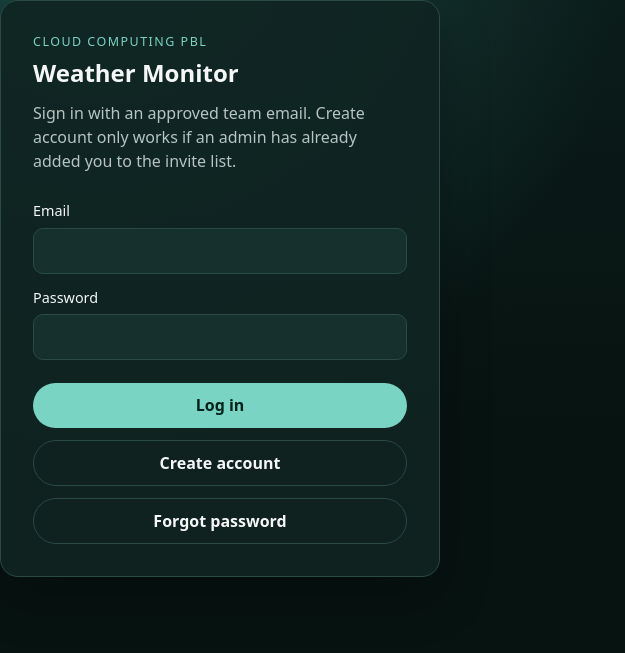
it: Login › sends a password reset for the typed email
Type "demo@college.edu" into the field labelled "Email" at (220, 251), box [33,228,407,274]
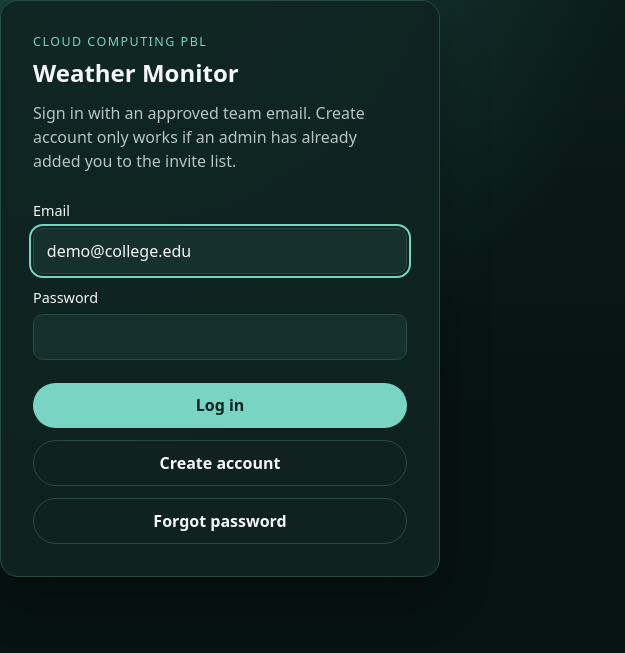
Click the button "Forgot password" at (220, 521), box [33,498,407,544]
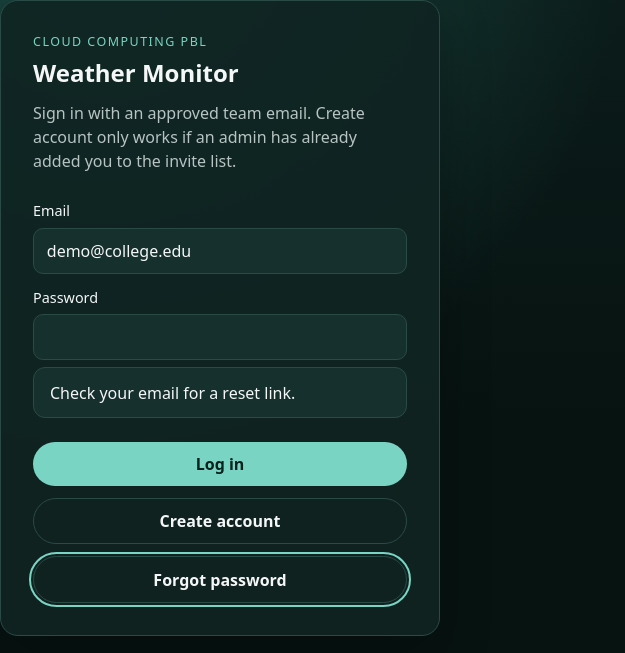
Check: the text "Check your email for a reset link." is shown, box [33,367,407,418]
